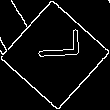L_W: (29, 38, 81, 72)
